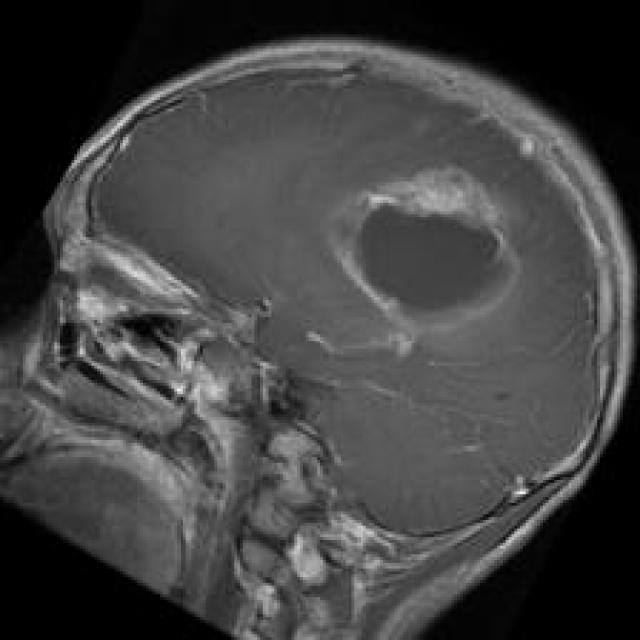glioma_tumor: (301, 152, 528, 358)
